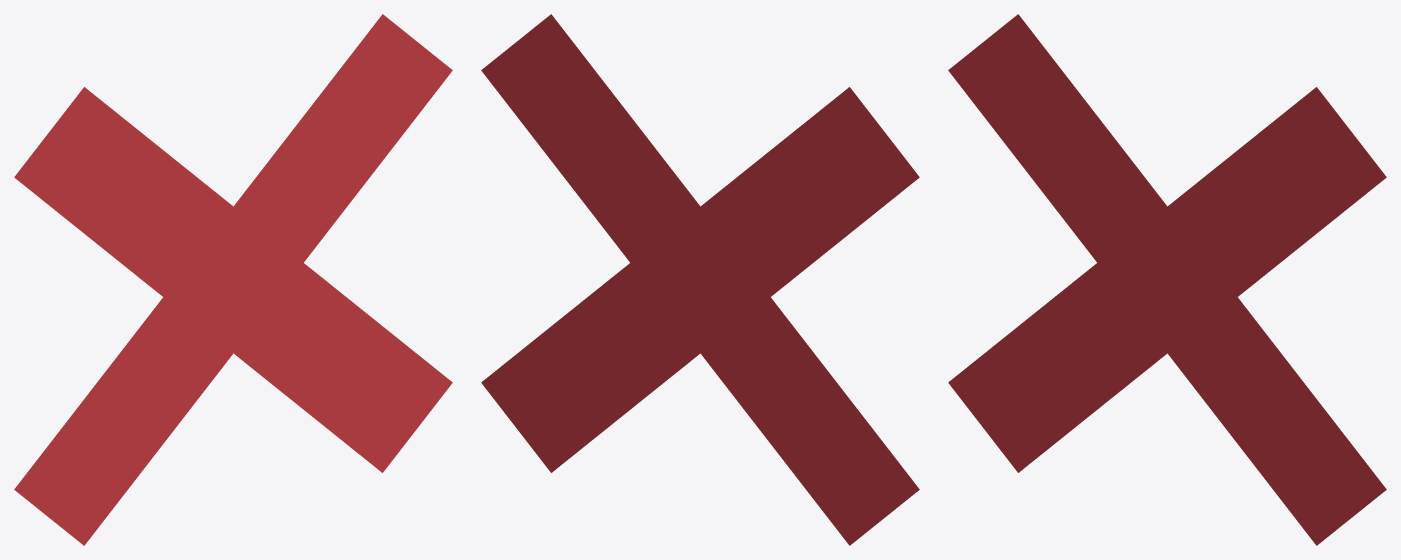
The model's file is xmark.glb.
The picture shows the model from 3 angles, left to right: view 1: azimuth 30°, elevation 25°; view 2: azimuth 150°, elevation 25°; view 3: azimuth 330°, elevation 25°; orthographic projection.
Parts seen in each view (by area): view 1: xmark; view 2: xmark; view 3: xmark.
Boxes of the visible parts, <box> form: xmark: <box>14,14,452,545</box>; xmark: <box>481,14,919,545</box>; xmark: <box>948,14,1386,545</box>.
Size of the model in its own units: 0.7071 by 0.7071 by 0.
